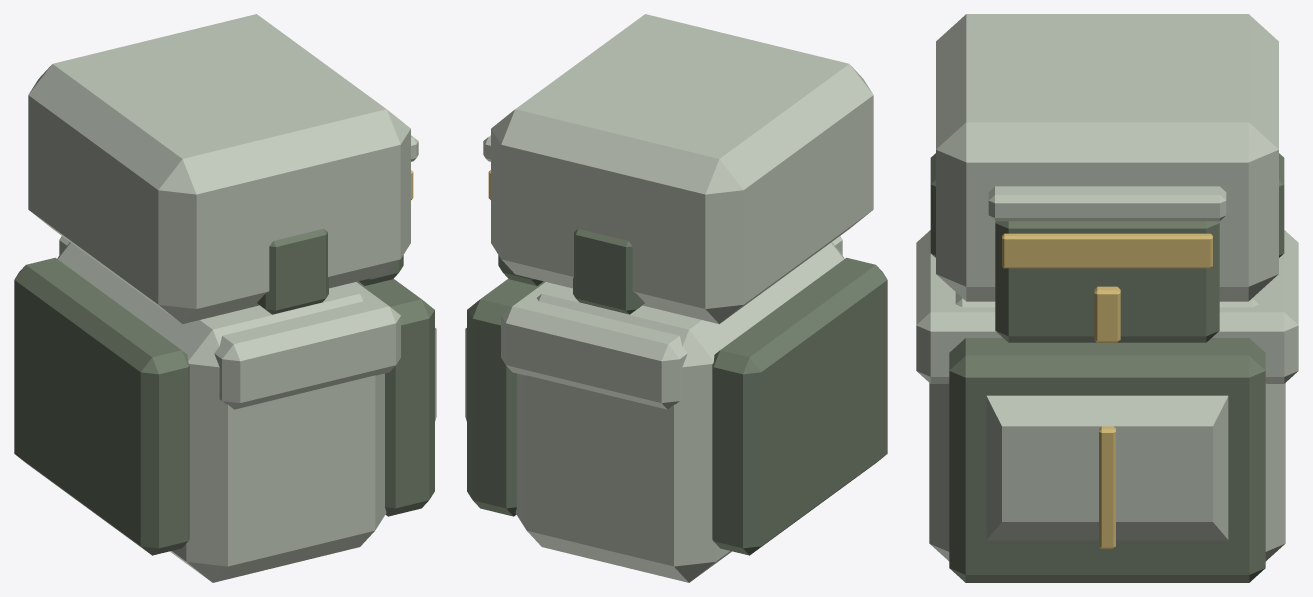
Rendered from aegis-prime.signature.glb.
3 renders of one model, left to right at view 1: azimuth 30°, elevation 25°; view 2: azimuth 150°, elevation 25°; view 3: azimuth 270°, elevation 25°, orthographic. The views are drawn at different scales.
Visible parts, largest first — view 1: aegis_prime_signature__main__head_cosmetic_bfc7b9_0.12, aegis_prime_signature__main__torso_cosmetic_707d6a_0.15, aegis_prime_signature__main__torso, aegis_prime_signature__main__torso_cosmetic_bfc7b9_0.15, aegis_prime_signature__main__head; view 2: aegis_prime_signature__main__head_cosmetic_bfc7b9_0.12, aegis_prime_signature__main__torso_cosmetic_707d6a_0.15, aegis_prime_signature__main__torso, aegis_prime_signature__main__torso_cosmetic_bfc7b9_0.15, aegis_prime_signature__main__head; view 3: aegis_prime_signature__main__head_cosmetic_bfc7b9_0.12, aegis_prime_signature__main__torso_cosmetic_707d6a_0.15, aegis_prime_signature__main__torso_cosmetic_bfc7b9_0.28, aegis_prime_signature__main__head_cosmetic_707d6a_0.16, aegis_prime_signature__main__torso_cosmetic_bfc7b9_0.15, aegis_prime_signature__main__head_cosmetic_bfc7b9_0.2, aegis_prime_signature__main__torso, aegis_prime_signature__main__head_cosmetic_d6bd77_0.3, aegis_prime_signature__main__torso_cosmetic_d6bd77_0.6, aegis_prime_signature__main__head_cosmetic_d6bd77_0.55, aegis_prime_signature__main__head.
Boxes of the visible parts, x1=… form: aegis_prime_signature__main__head_cosmetic_bfc7b9_0.12: x1=28, y1=14, x2=410, y2=324; aegis_prime_signature__main__torso_cosmetic_707d6a_0.15: x1=14, y1=257, x2=434, y2=555; aegis_prime_signature__main__torso: x1=57, y1=242, x2=386, y2=582; aegis_prime_signature__main__torso_cosmetic_bfc7b9_0.15: x1=59, y1=236, x2=400, y2=409; aegis_prime_signature__main__head: x1=257, y1=228, x2=328, y2=314; aegis_prime_signature__main__head_cosmetic_bfc7b9_0.12: x1=491, y1=14, x2=873, y2=324; aegis_prime_signature__main__torso_cosmetic_707d6a_0.15: x1=467, y1=257, x2=887, y2=555; aegis_prime_signature__main__torso: x1=515, y1=242, x2=844, y2=582; aegis_prime_signature__main__torso_cosmetic_bfc7b9_0.15: x1=501, y1=236, x2=842, y2=409; aegis_prime_signature__main__head: x1=573, y1=228, x2=644, y2=314; aegis_prime_signature__main__head_cosmetic_bfc7b9_0.12: x1=936, y1=14, x2=1278, y2=301; aegis_prime_signature__main__torso_cosmetic_707d6a_0.15: x1=949, y1=338, x2=1265, y2=582; aegis_prime_signature__main__torso_cosmetic_bfc7b9_0.28: x1=986, y1=395, x2=1228, y2=540; aegis_prime_signature__main__head_cosmetic_707d6a_0.16: x1=995, y1=221, x2=1219, y2=342; aegis_prime_signature__main__torso_cosmetic_bfc7b9_0.15: x1=916, y1=230, x2=1298, y2=383; aegis_prime_signature__main__head_cosmetic_bfc7b9_0.2: x1=988, y1=186, x2=1226, y2=221; aegis_prime_signature__main__torso: x1=929, y1=292, x2=1285, y2=561; aegis_prime_signature__main__head_cosmetic_d6bd77_0.3: x1=1002, y1=233, x2=1212, y2=268; aegis_prime_signature__main__torso_cosmetic_d6bd77_0.6: x1=1099, y1=426, x2=1115, y2=548; aegis_prime_signature__main__head_cosmetic_d6bd77_0.55: x1=1094, y1=286, x2=1120, y2=342; aegis_prime_signature__main__head: x1=930, y1=153, x2=1284, y2=257.
Bounding box in the file's own units: 30.25 × 39 × 29.
